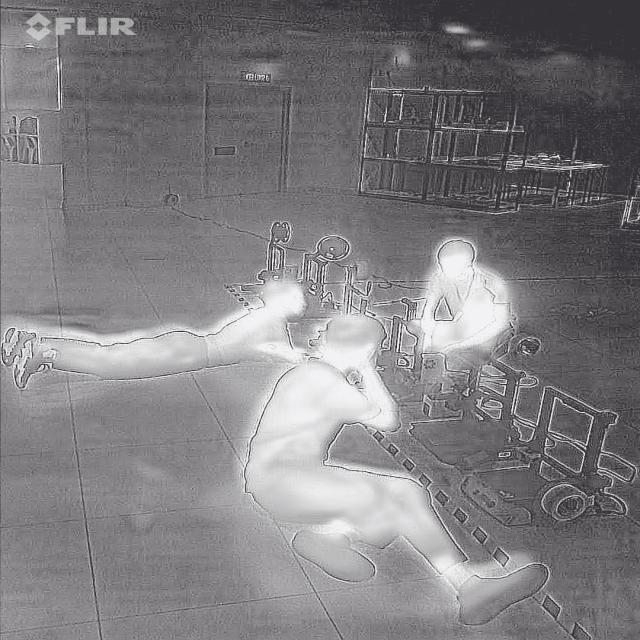Victim: (227, 306, 555, 630), (0, 270, 322, 393), (402, 230, 526, 366)
